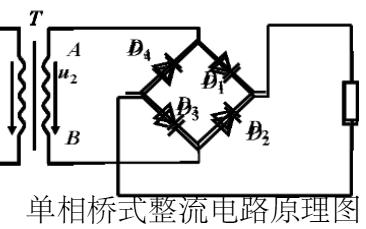bridge: (135, 36, 257, 156)
res1: (341, 79, 361, 129)
trans: (14, 24, 52, 169)
